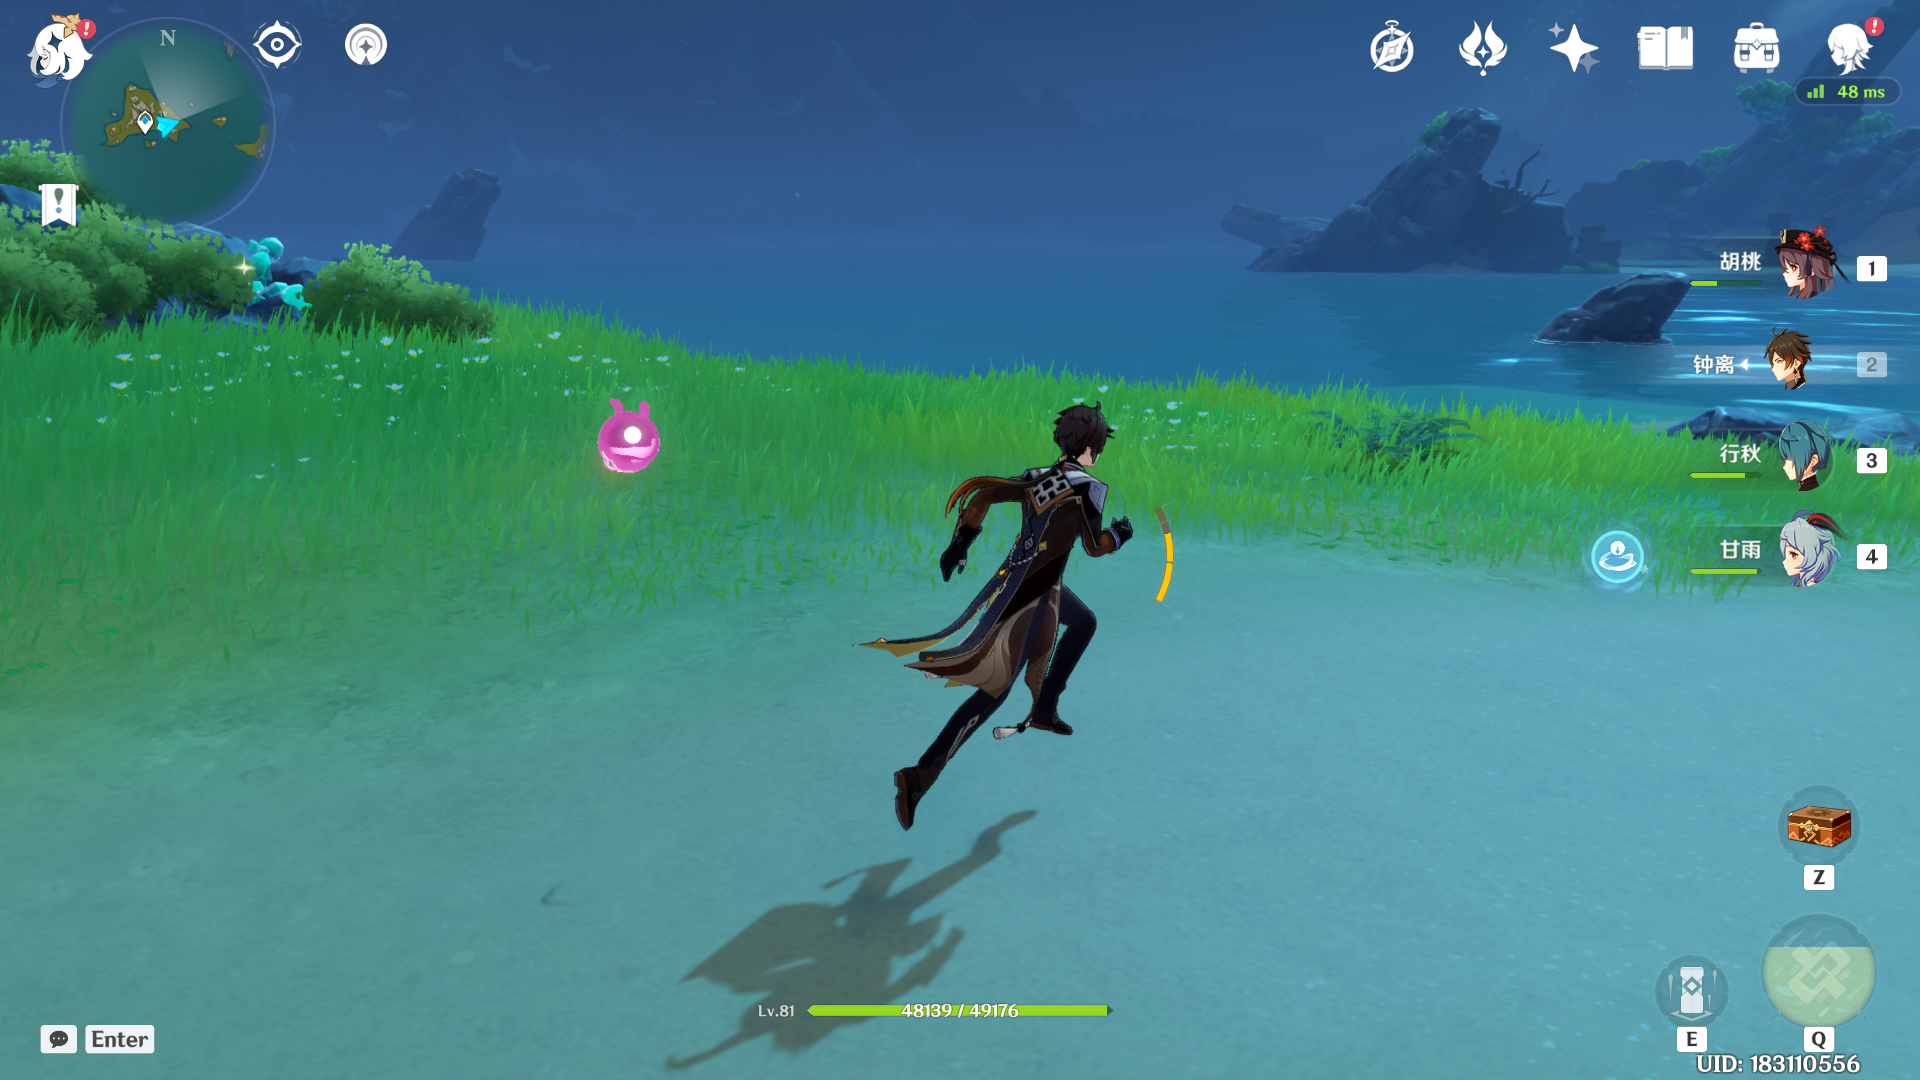character: (832, 355, 1195, 891)
